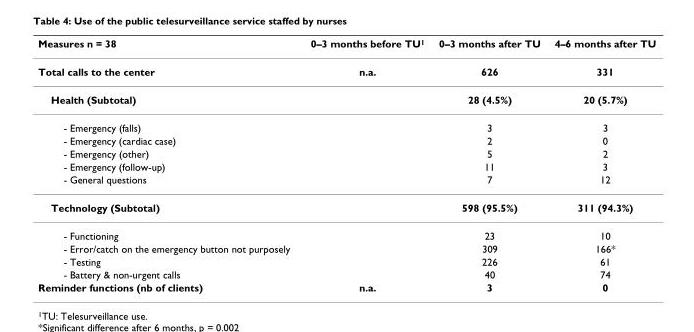table: (37, 36, 655, 292)
table column: (37, 36, 299, 292), (299, 36, 430, 292), (430, 36, 546, 292), (546, 36, 655, 292)
table column header: (37, 36, 655, 56)
table row: (37, 56, 655, 85), (37, 85, 655, 113), (37, 193, 655, 221), (37, 172, 655, 193), (37, 36, 655, 56), (37, 113, 655, 133), (37, 221, 655, 241), (37, 133, 655, 146), (37, 146, 655, 159), (37, 159, 655, 172), (37, 241, 655, 254), (37, 254, 655, 267), (37, 267, 655, 280), (37, 280, 655, 292)
